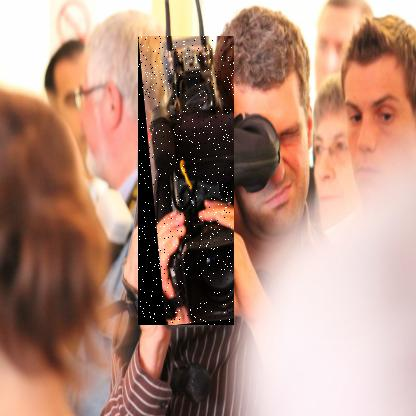Camera: (139, 37, 236, 327)
